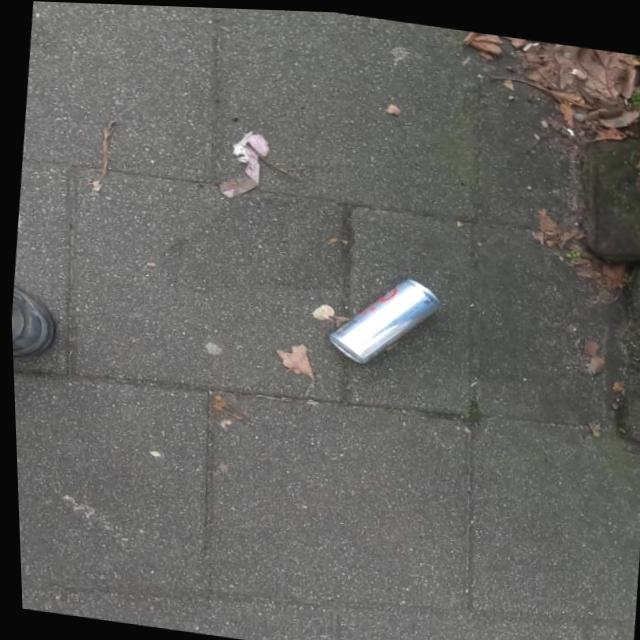Can-Metal: (316, 264, 444, 374)
